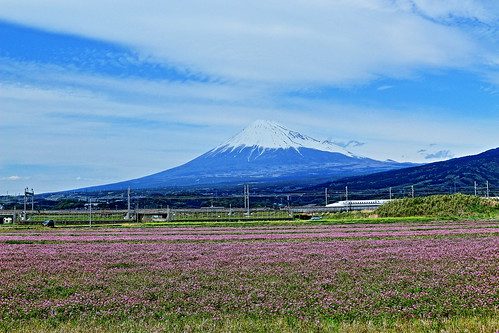mountain: (188, 108, 379, 159)
sky: (1, 1, 495, 143)
train: (324, 200, 391, 211)
